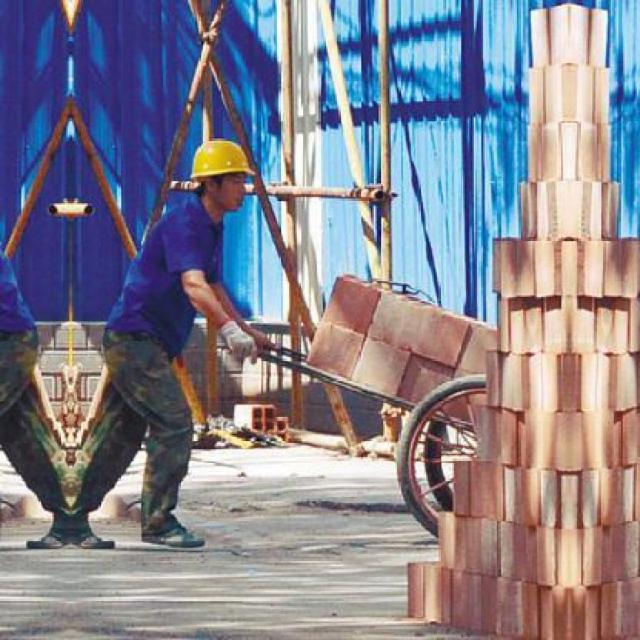helmet: (182, 130, 252, 218)
